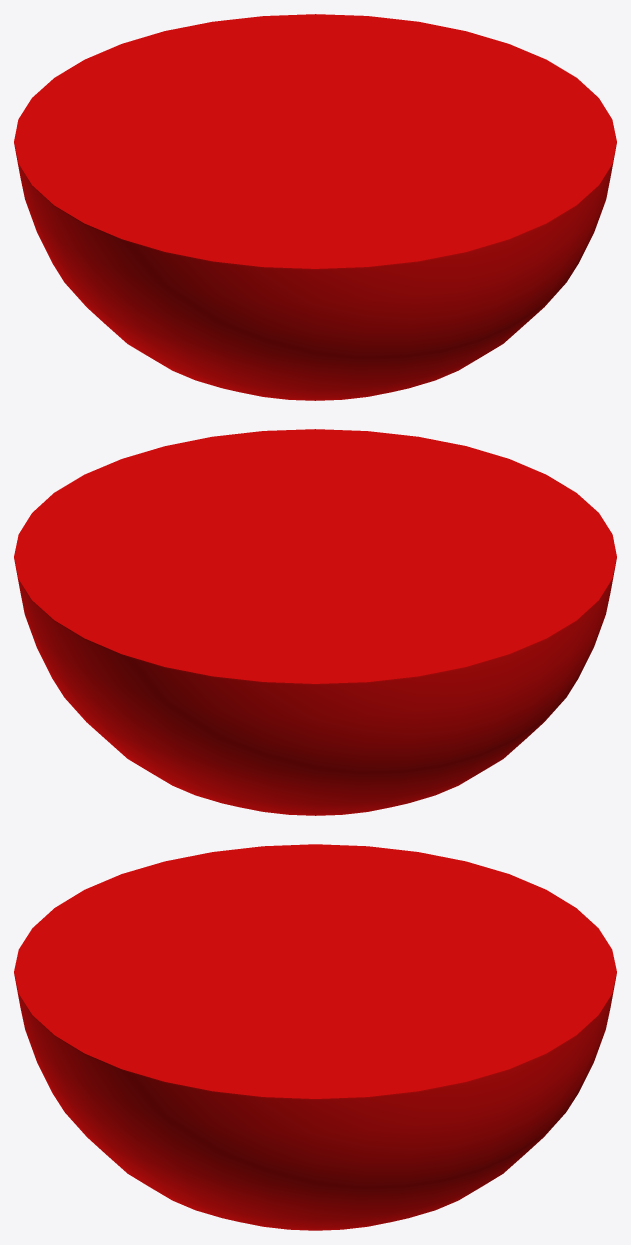
File: Liquid2.fbx
3 renders of one model, top to bottom at view 1: azimuth 30°, elevation 25°; view 2: azimuth 150°, elevation 25°; view 3: azimuth 270°, elevation 25°, orthographic.
Visible parts, largest first — view 1: Liquid1; view 2: Liquid1; view 3: Liquid1.
Part boxes in pixels (<box>): Liquid1: <box>14,14,616,400</box>; Liquid1: <box>14,429,616,815</box>; Liquid1: <box>14,844,616,1230</box>.
Size of the model in its own units: 6.66 by 2.73 by 6.66.
